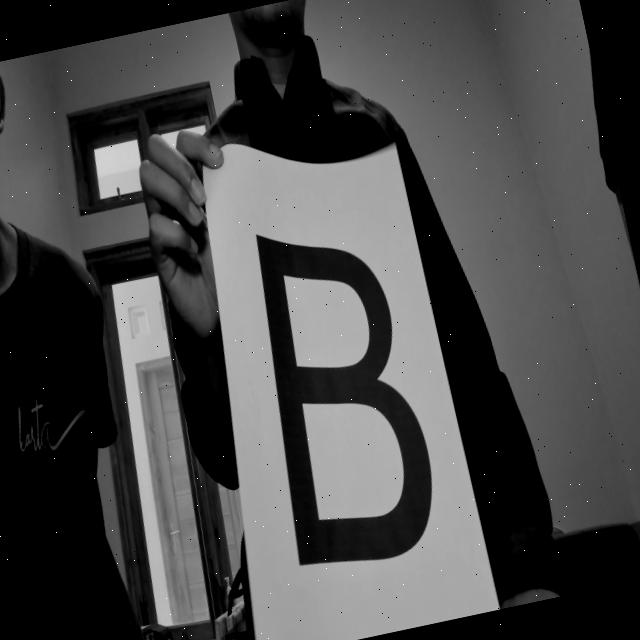b: (222, 188, 464, 627)
